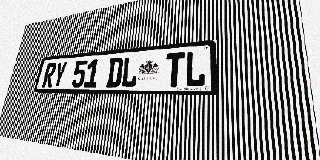1: (83, 59, 100, 87)
5: (71, 60, 88, 87)
D: (106, 57, 124, 87)
L: (184, 50, 206, 87), (120, 56, 139, 87)
R: (42, 62, 57, 88)
T: (164, 52, 185, 87)
Y: (52, 62, 68, 88)
